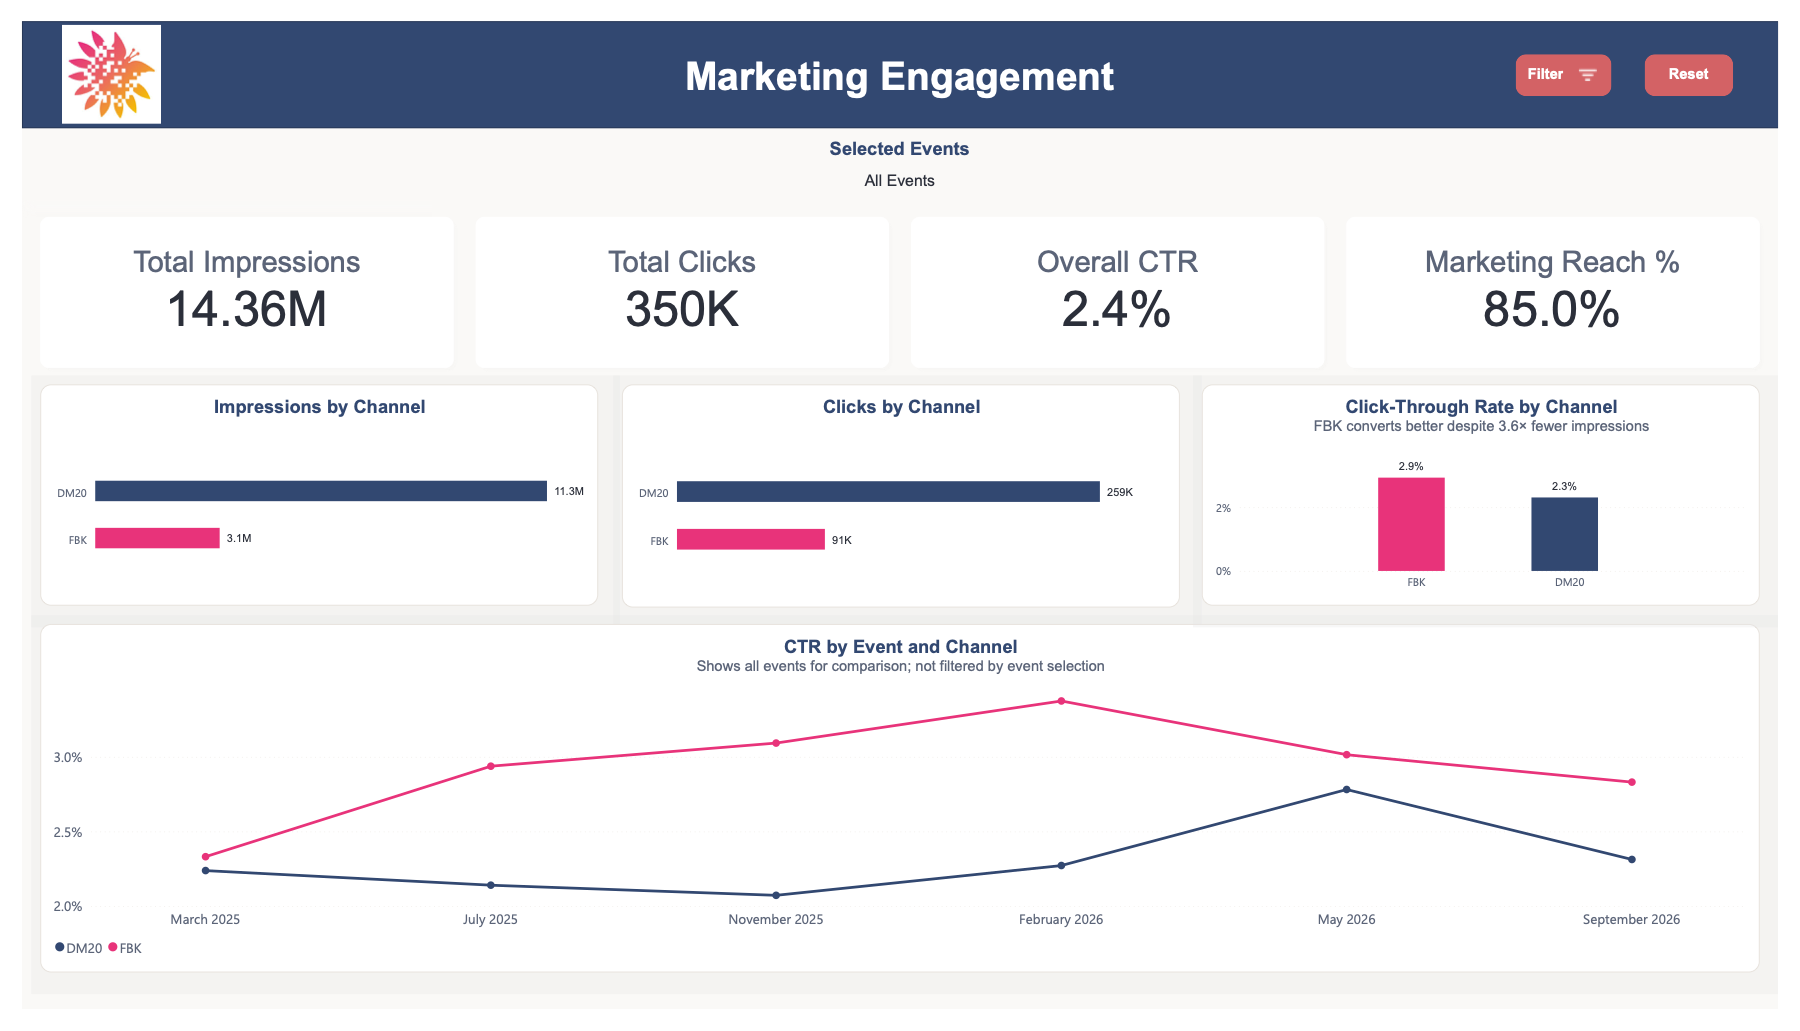

This screenshot's page, from the dashboard's own definition file:
{"tool":"powerbi","page":{"name":"Marketing","canvas":[1920,1080],"ordinal":2},"visuals":[{"type":"slicer","title":"Event Label Slicer Mobile","fields":{"Values":["dim_event.Event Label"]},"box":[1621.5,26.9,295.8,88.7],"z":0,"group":"g1"},{"type":"card","title":"Selected Events","fields":{"Values":["_measures.Selected Events Label"]},"box":[0,115.6,1920,80.7],"z":0},{"type":"shape","title":"Header Shape","box":[0,0,1920.6,116.8],"z":1000,"group":"g1"},{"type":"barChart","title":"Impressions by Channel","fields":{"Category":["Channel.Channel"],"Y":["_measures.Channel Impressions"]},"box":[20.1,397.4,609.5,241.1],"z":1000},{"type":"image","title":"Logo","box":[23.6,4.3,148,107.3],"z":2000,"group":"g1"},{"type":"textbox","title":"Header Title","box":[0,36.5,1920,72.9],"z":3000,"group":"g1"},{"type":"barChart","title":"Clicks by Channel","fields":{"Category":["Channel.Channel"],"Y":["_measures.Channel Clicks"]},"box":[656.4,397.4,609.5,243.3],"z":3000},{"type":"actionButton","title":"Reset Button","box":[1774.1,36.5,96.5,45.1],"z":4000,"group":"g1"},{"type":"lineChart","title":"CTR by Event and Channel","fields":{"Category":["dim_event.Event Label"],"Series":["Channel.Channel"],"Y":["_measures.Channel CTR"]},"box":[20.1,658.6,1879.8,381.8],"z":4000},{"type":"actionButton","title":"Filter Button","box":[1632.5,36.5,105.1,45.1],"z":5000,"group":"g1"},{"type":"clusteredColumnChart","title":"Click-Through Rate by Channel","fields":{"Category":["Channel.Channel"],"Y":["_measures.Channel CTR"]},"box":[1290.4,397.4,609.5,241.1],"z":5000},{"type":"cardVisual","title":"Overview Card","fields":{"Data":["_measures.Total Impressions","_measures.Total Clicks","_measures.Overall CTR","_measures.Marketing Reach %"]},"box":[0,196.5,1920,200.9],"z":6000},{"type":"group","id":"g1","title":"Header","box":[0,0,1920.6,116.8],"z":7000}]}

Visuals, with their boxes in screenshot pixels (x1, y1, x2, y2), scaled from the page's 1920x1080 canvas onto the 1800x1031 screenshot:
"Event Label Slicer Mobile" slicer: 1520, 26, 1797, 110
"Selected Events" card: 0, 110, 1799, 187
"Header Shape" shape: 0, 0, 1799, 112
"Impressions by Channel" barChart: 19, 379, 590, 610
"Logo" image: 22, 4, 161, 107
"Header Title" textbox: 0, 35, 1799, 104
"Clicks by Channel" barChart: 615, 379, 1187, 612
"Reset Button" actionButton: 1663, 35, 1754, 78
"CTR by Event and Channel" lineChart: 19, 629, 1781, 993
"Filter Button" actionButton: 1530, 35, 1629, 78
"Click-Through Rate by Channel" clusteredColumnChart: 1210, 379, 1781, 610
"Overview Card" cardVisual: 0, 188, 1799, 379
"Header" group: 0, 0, 1799, 112
